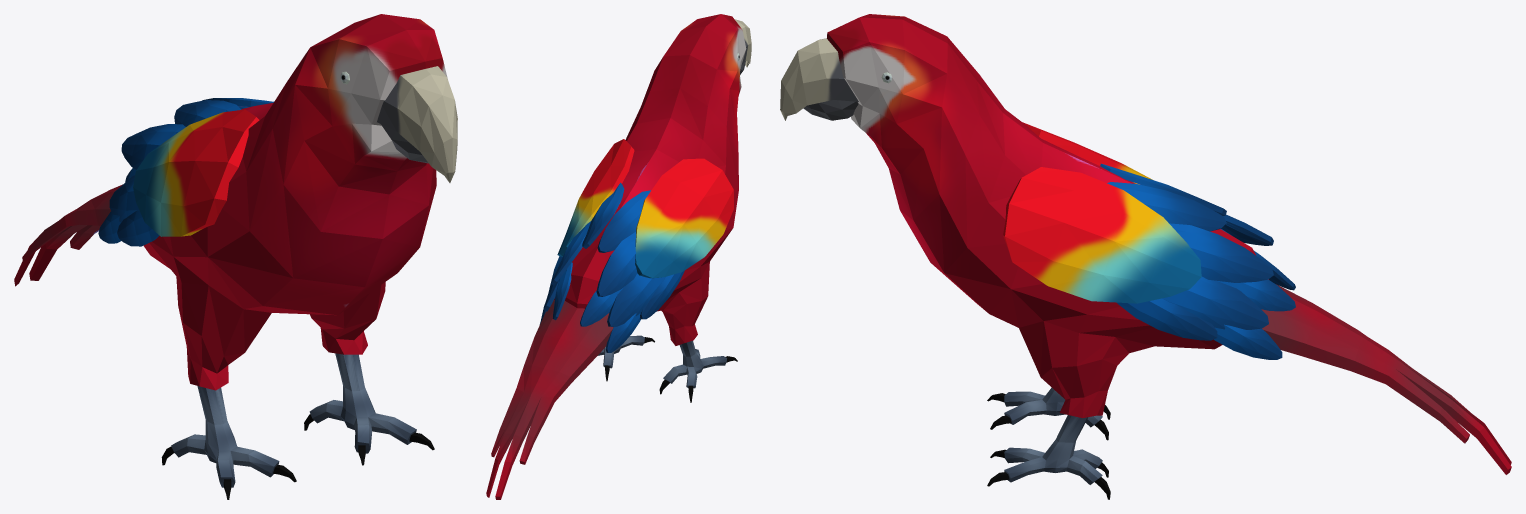
The model's file is parrot.obj.
3 views of the same model, side by side, from view 1: azimuth 30°, elevation 25°; view 2: azimuth 150°, elevation 25°; view 3: azimuth 270°, elevation 25° (orthographic). The views are drawn at different scales.
Bounding box in the file's own units: 3.41 × 7.55 × 11.05.
2 materials, 1 textured.
